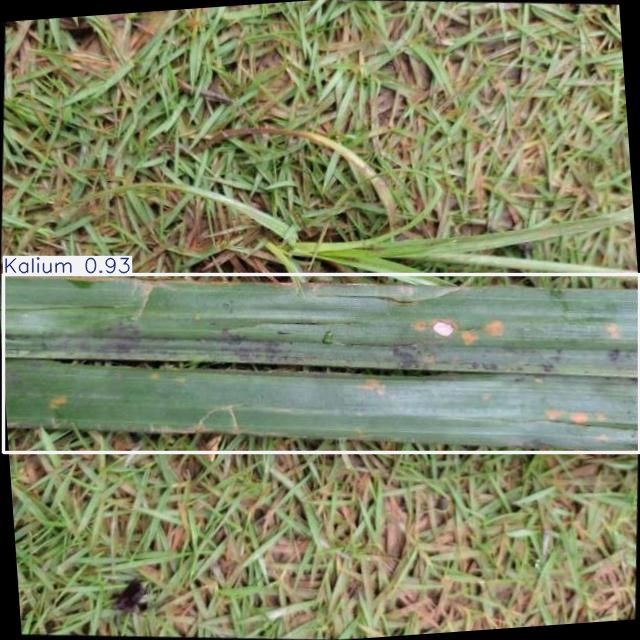Kalium: (4, 274, 640, 453)
